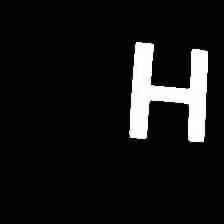LTR_H: (117, 28, 214, 150)
